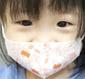with_mask: (2, 2, 85, 79)
